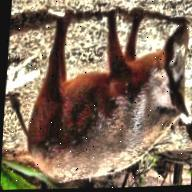boar: (2, 5, 192, 189)
